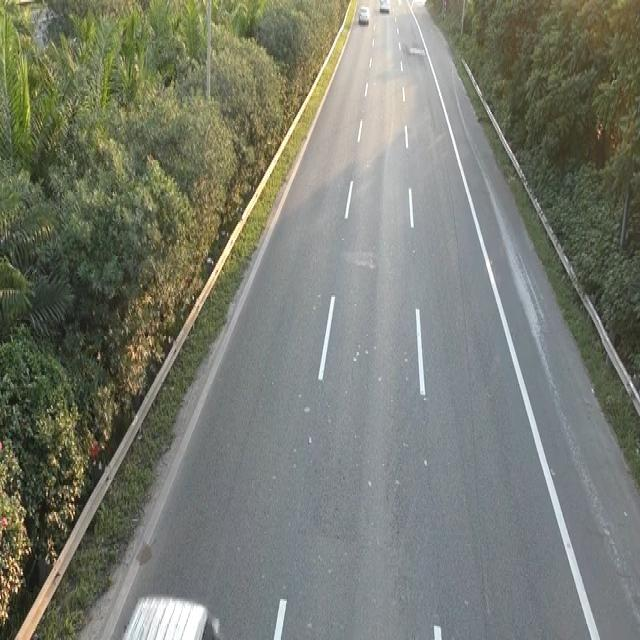bus: (357, 3, 370, 25), (378, 0, 390, 12)
lorry: (119, 590, 218, 636)
